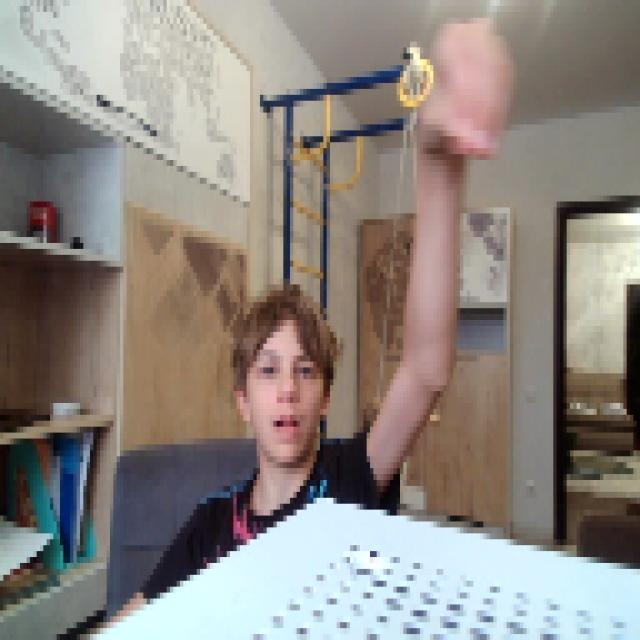left_click: (414, 6, 514, 160)
